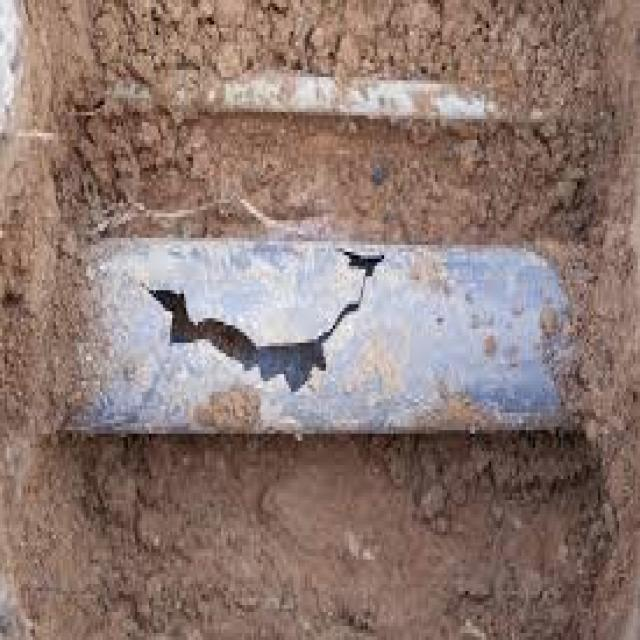crack: (149, 247, 384, 383)
